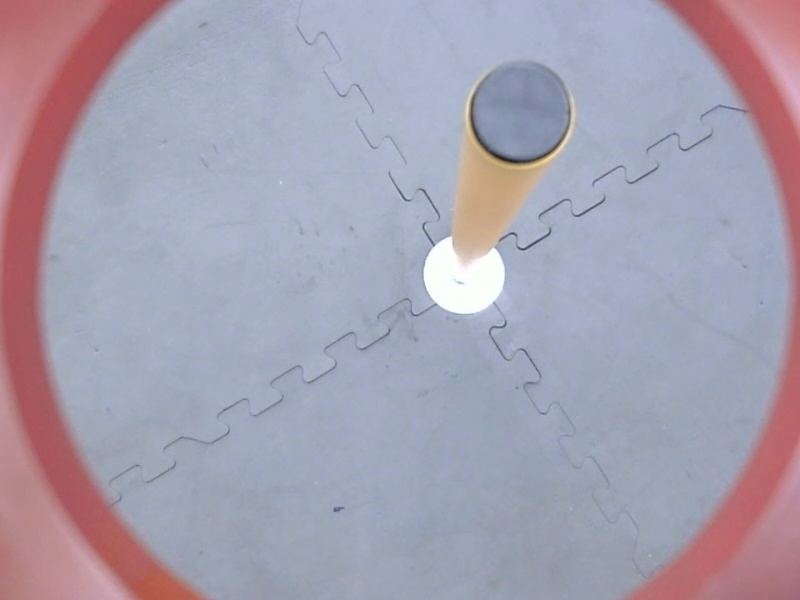tip: (459, 53, 586, 174)
